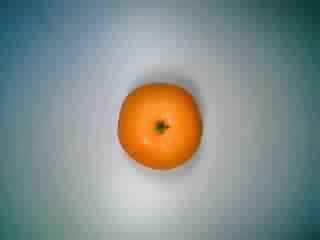orange: (111, 76, 211, 175)
